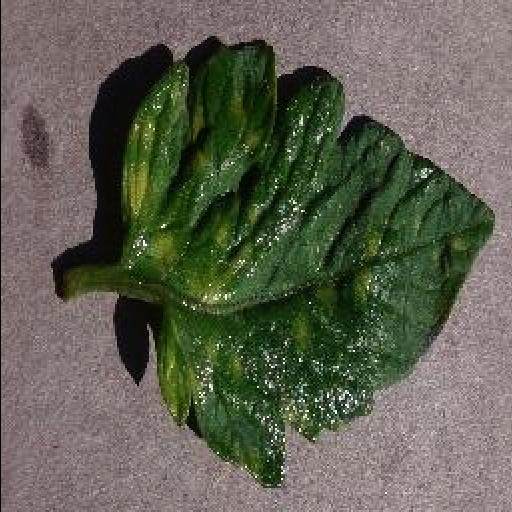disease_tomato: (116, 42, 498, 492)
